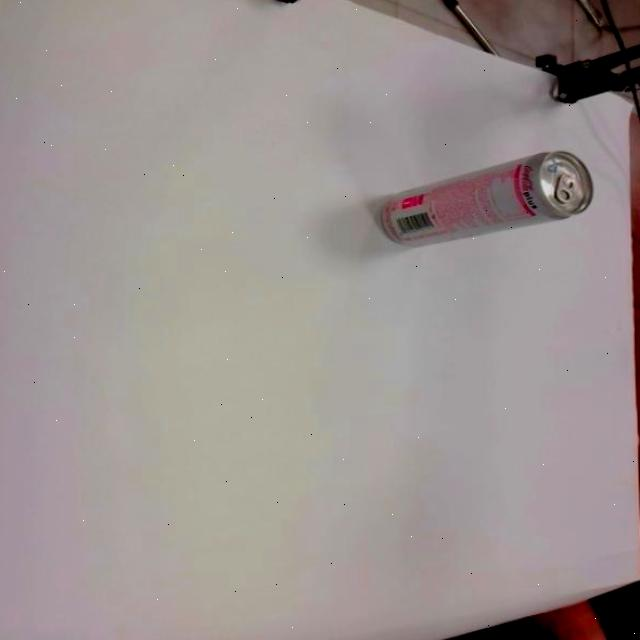debris: (361, 148, 596, 249)
